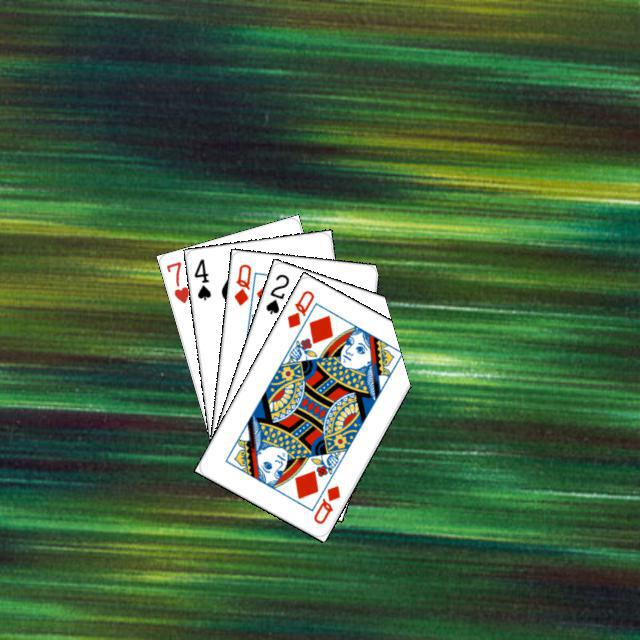2s: (260, 269, 291, 316)
4s: (189, 254, 213, 302)
7h: (161, 257, 191, 305)
Qd: (308, 480, 342, 526), (282, 285, 316, 330), (229, 259, 253, 307)
